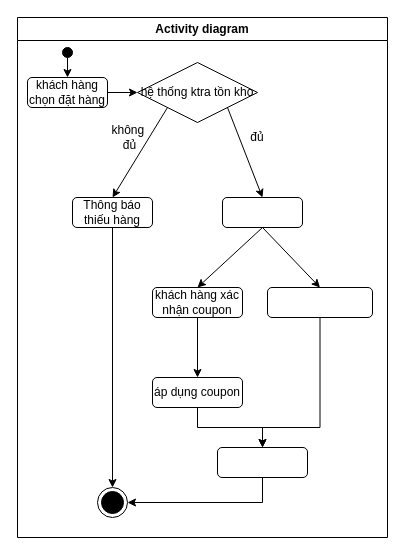
This 405x555 diagram has some shape labels left out. The shapes that lost their labels are listed below. From the top down, each one's centre as x and y in pixels, then its label:
At point 262,212: "Cho phép chọn coupon".
At point 319,302: "khách hàng không dùng coupon".
At point 262,462: "tạo đơn hàng mới".
